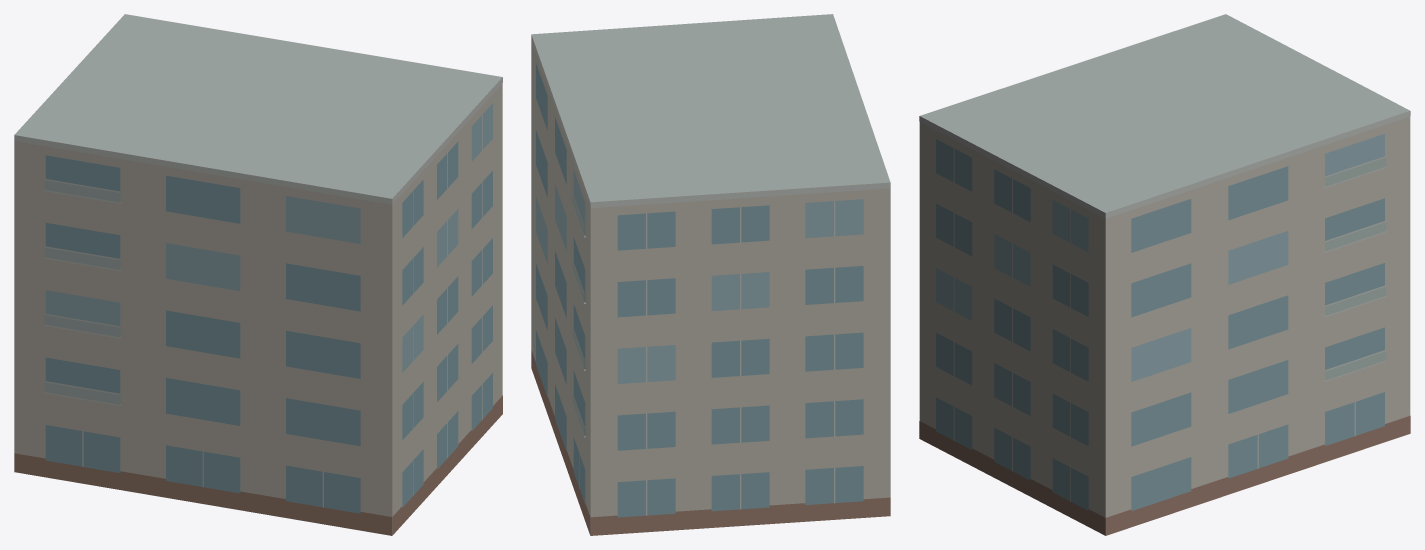
File: survey-upis-32703378.glb
3 renders of one model, left to right at view 1: azimuth 30°, elevation 25°; view 2: azimuth 150°, elevation 25°; view 3: azimuth 270°, elevation 25°, orthographic. The views are drawn at different scales.
Parts seen in each view (by area): view 1: survey-upis-32703378.tmp; view 2: survey-upis-32703378.tmp; view 3: survey-upis-32703378.tmp.
Part boxes in pixels (x1,y1,x2,y2): survey-upis-32703378.tmp: [14, 14, 502, 535]; survey-upis-32703378.tmp: [531, 14, 890, 535]; survey-upis-32703378.tmp: [919, 14, 1410, 535].
Bounding box in the file's own units: 18.25 × 13.8 × 19.03.
